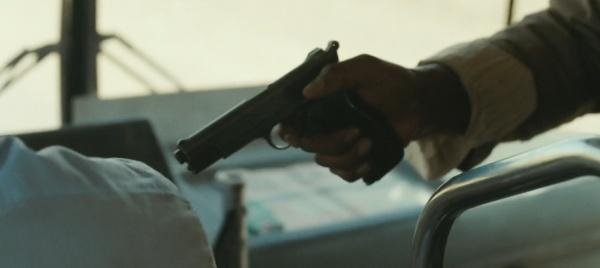Gun: (173, 42, 406, 186)
